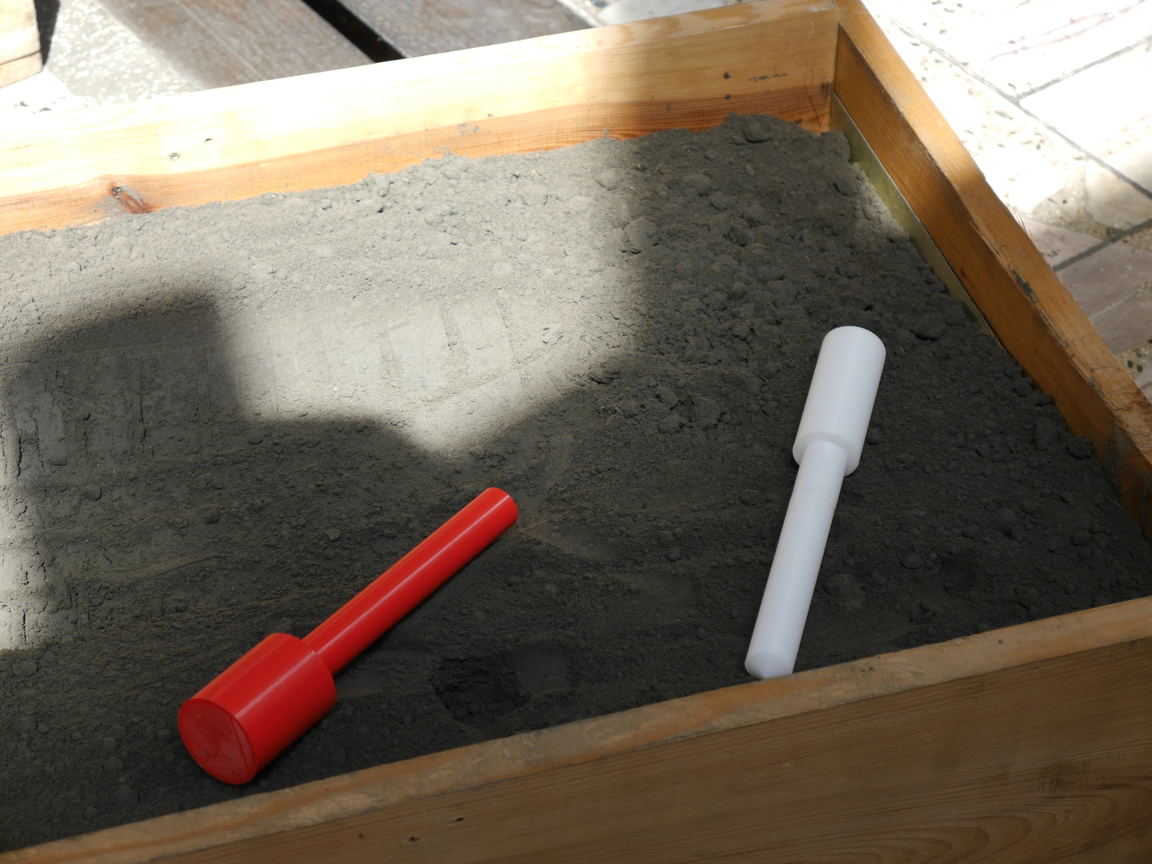cargo_g: (177, 487, 517, 787), (744, 326, 886, 680)
